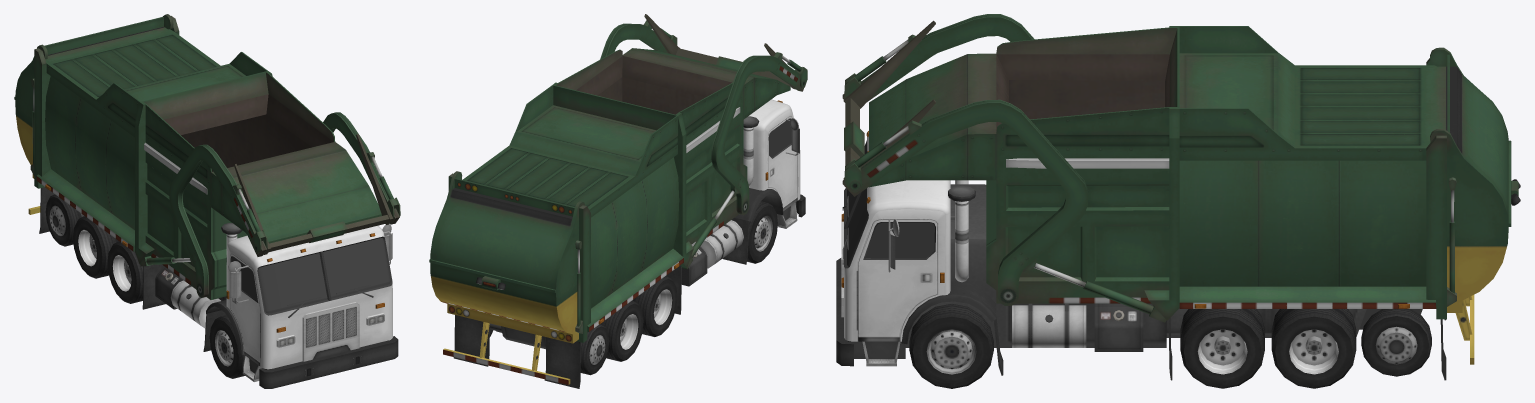
Rendered from turck 2.fbx.
3 views of the same model, side by side, from view 1: azimuth 30°, elevation 25°; view 2: azimuth 150°, elevation 25°; view 3: azimuth 270°, elevation 25° (orthographic). The views are drawn at different scales.
Parts seen in each view (by area): view 1: body, T_B_R1, T_B_R, T_F_R, S_B_R_T; view 2: body, T_B_R, T_B_R1, T_F_R, S_B_R_T; view 3: body, T_B_L1, T_B_L, T_F_L, S_B_L_T.
Part boxes in pixels (<box>): body: <box>14,14,400,388</box>; T_B_R1: <box>73,216,118,278</box>; T_B_R: <box>107,241,143,303</box>; T_F_R: <box>209,315,244,378</box>; S_B_R_T: <box>45,194,81,246</box>; body: <box>429,14,807,388</box>; T_B_R: <box>632,276,677,336</box>; T_B_R1: <box>601,300,643,361</box>; T_F_R: <box>747,201,777,263</box>; S_B_R_T: <box>580,324,609,375</box>; body: <box>836,14,1520,380</box>; T_B_L1: <box>1271,309,1356,388</box>; T_B_L: <box>1180,309,1264,388</box>; T_F_L: <box>909,304,993,388</box>; S_B_L_T: <box>1361,309,1431,376</box>.
Size of the model in its own units: 295 by 378 by 809.
